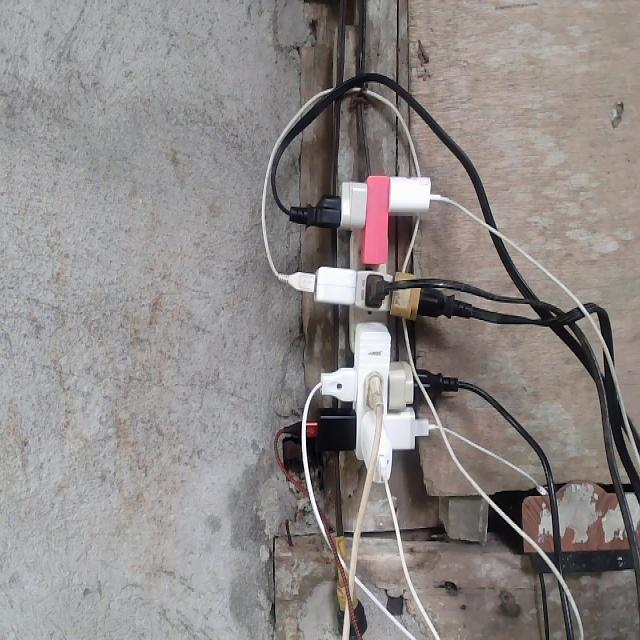-: (293, 174, 454, 482)
